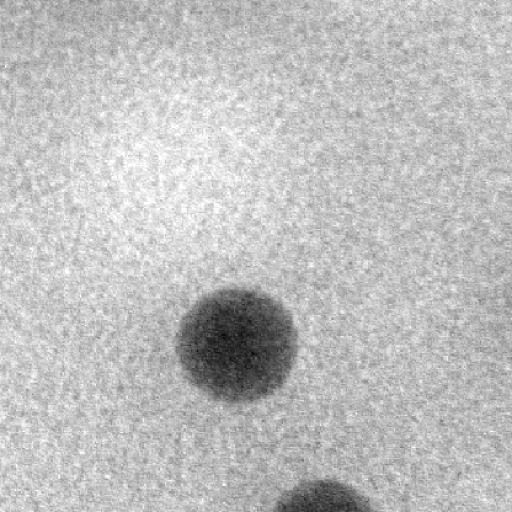Nanoparticles: (176, 286, 298, 406), (274, 478, 374, 512)
